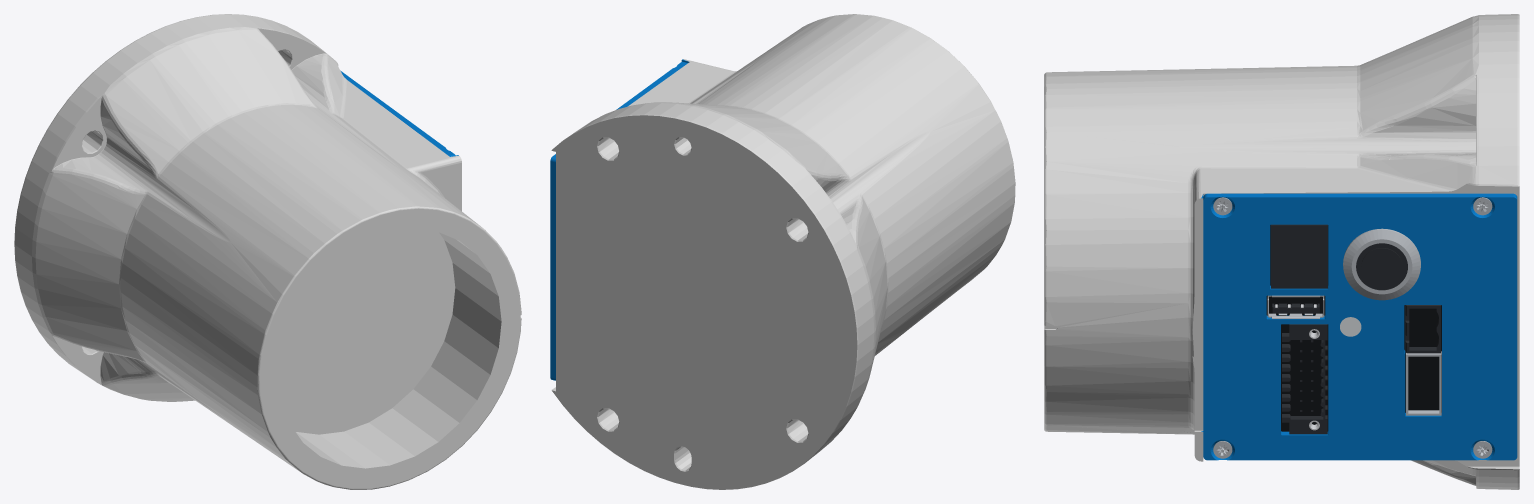
The picture shows the model from 3 angles, left to right: view 1: azimuth 30°, elevation 25°; view 2: azimuth 150°, elevation 25°; view 3: azimuth 270°, elevation 25°; orthographic projection. The views are drawn at different scales.
Visible parts, largest first — view 1: Link; view 2: Link; view 3: Link.
Boxes of the visible parts, x1=… form: Link: x1=14, y1=14, x2=521, y2=489; Link: x1=550, y1=14, x2=1015, y2=489; Link: x1=1044, y1=14, x2=1519, y2=489.
Size of the model in its own units: 0.0985 by 0.1098 by 0.1097.
